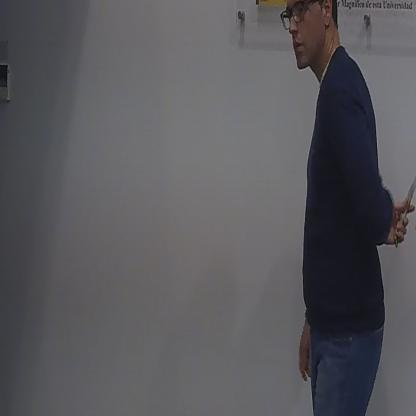knife: (391, 160, 415, 254)
